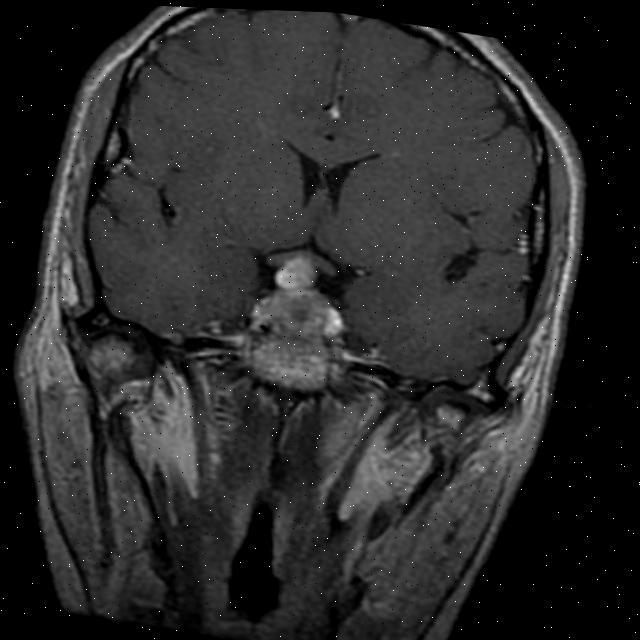Pituitary: (243, 281, 338, 394), (272, 251, 323, 296)
